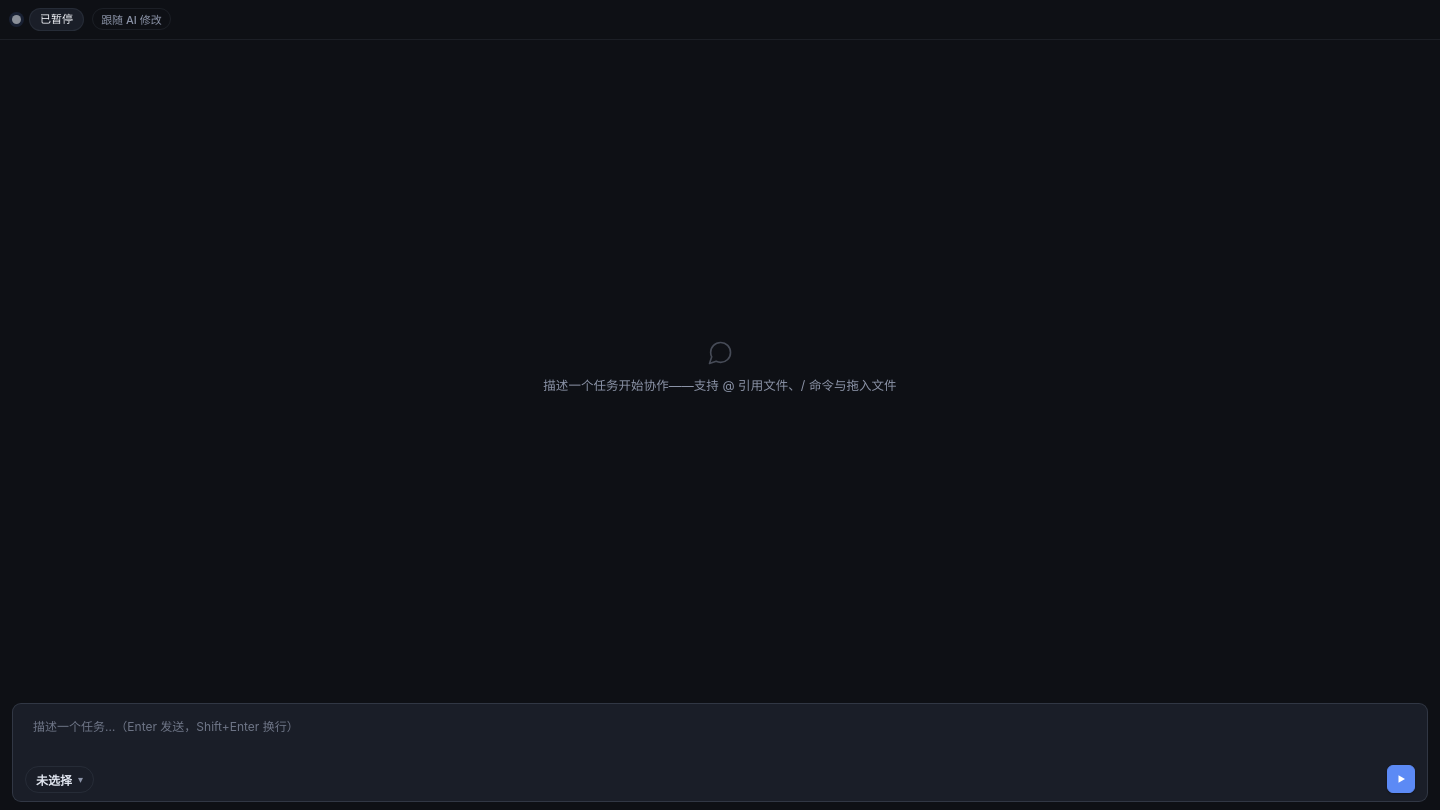
it: 恢复双语义（v2.35 §9.1） › 恢复请求失败 → toast 显式上报（不再静默无响应）
Step 1. Click the button with test id "resume" → (1401, 779), box [1387,765,1415,793]
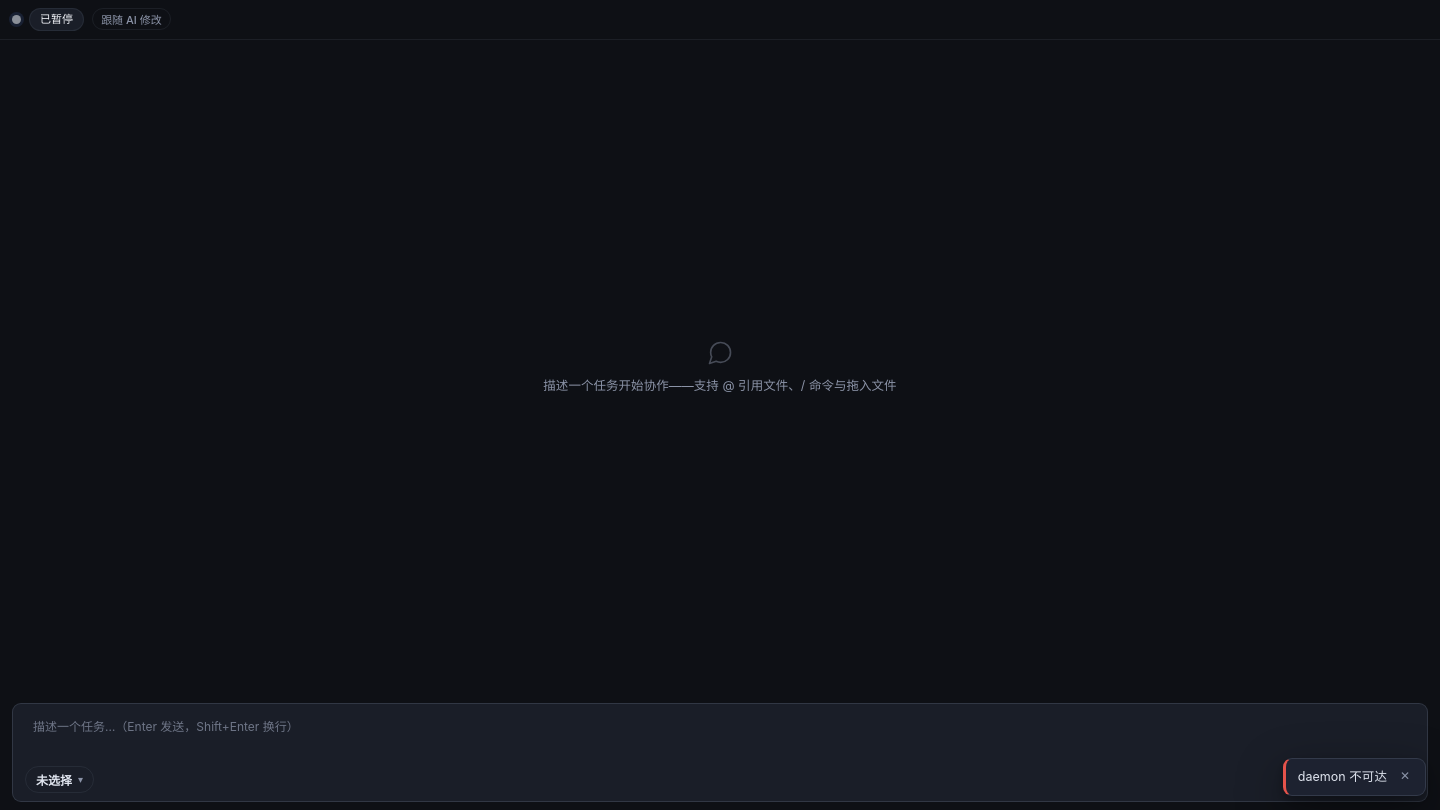
Result: the message shows "daemon 不可达" at [1298,769,1387,784]
